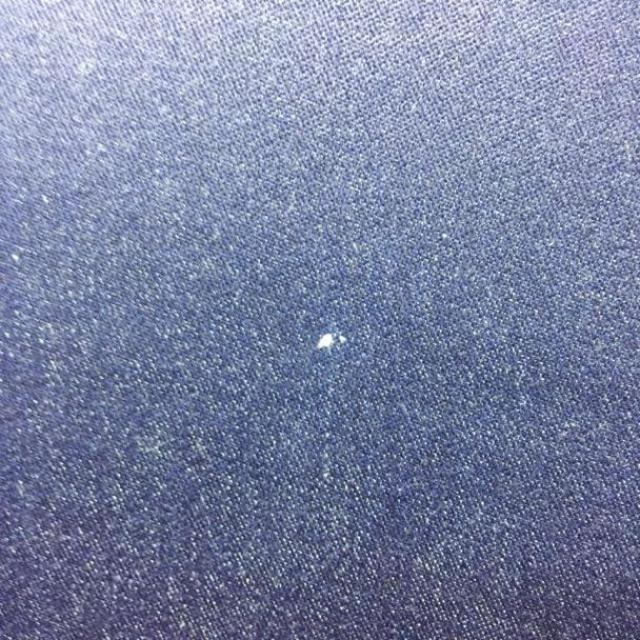Knot: (317, 334, 347, 350)
